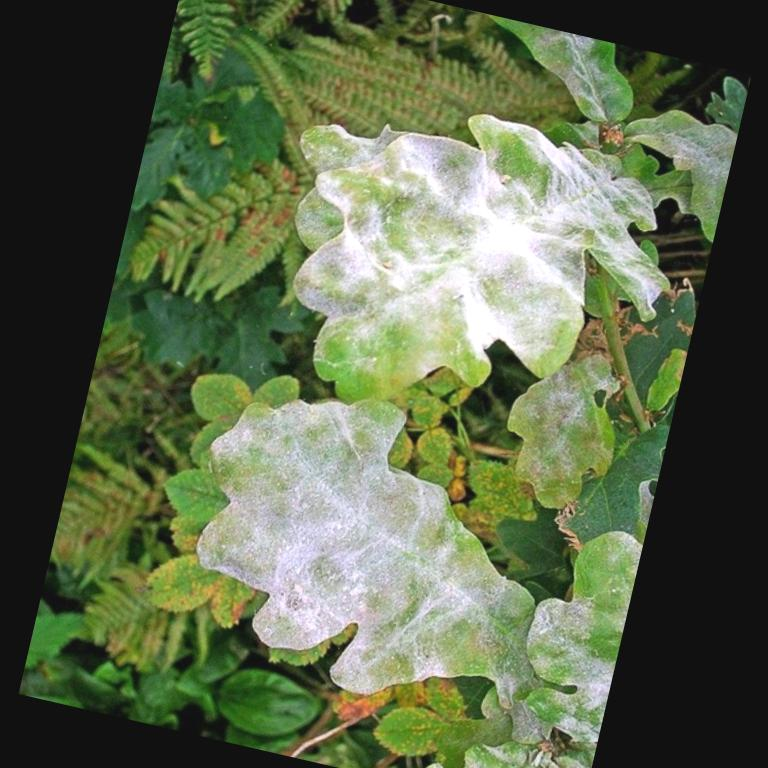powdery-mildew: (338, 166, 528, 336), (238, 468, 438, 611)
